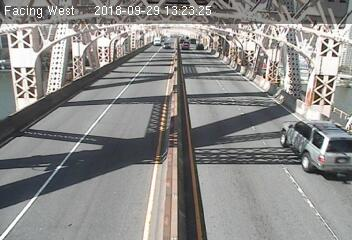car: (277, 118, 352, 179), (179, 40, 191, 51), (153, 35, 161, 49), (194, 41, 205, 51), (163, 41, 171, 50)
